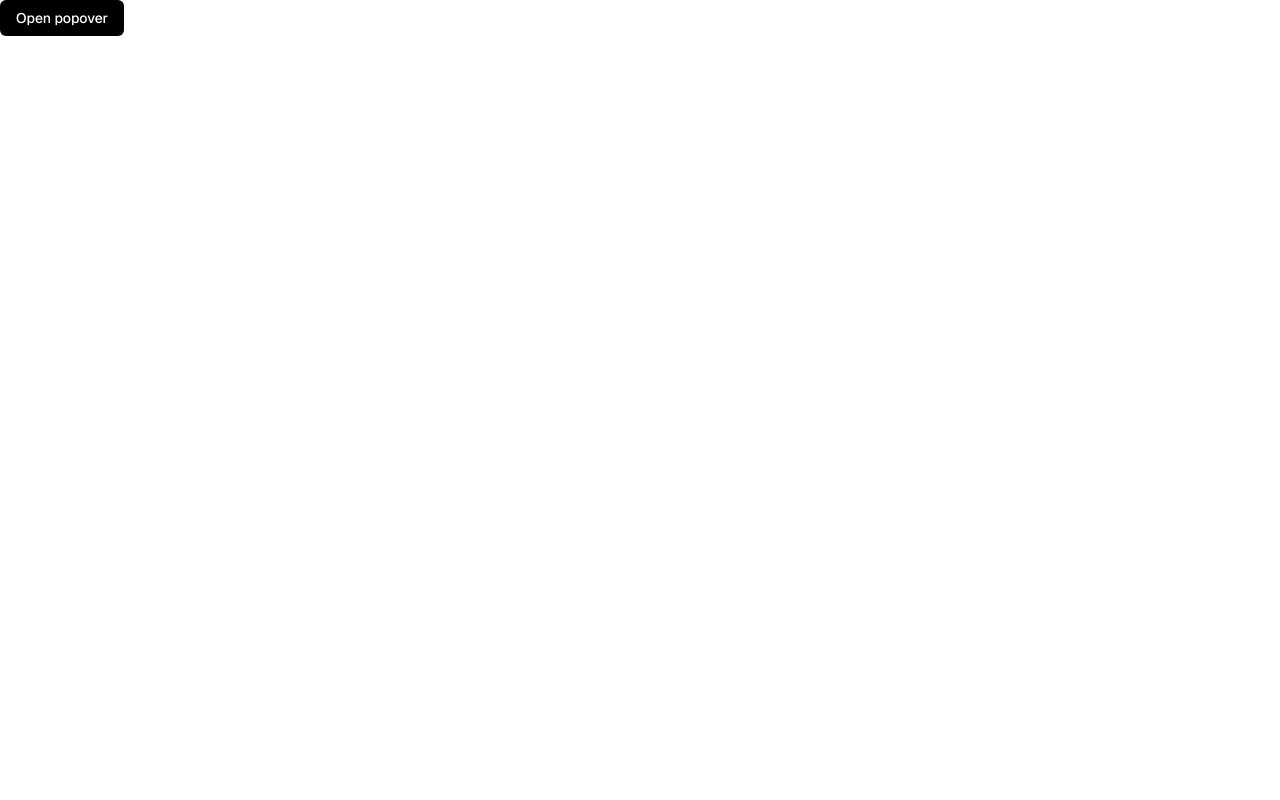
it: Popover › opens content from the trigger
Step 1. Click the button "Open popover" → (62, 18), box [0,0,124,36]
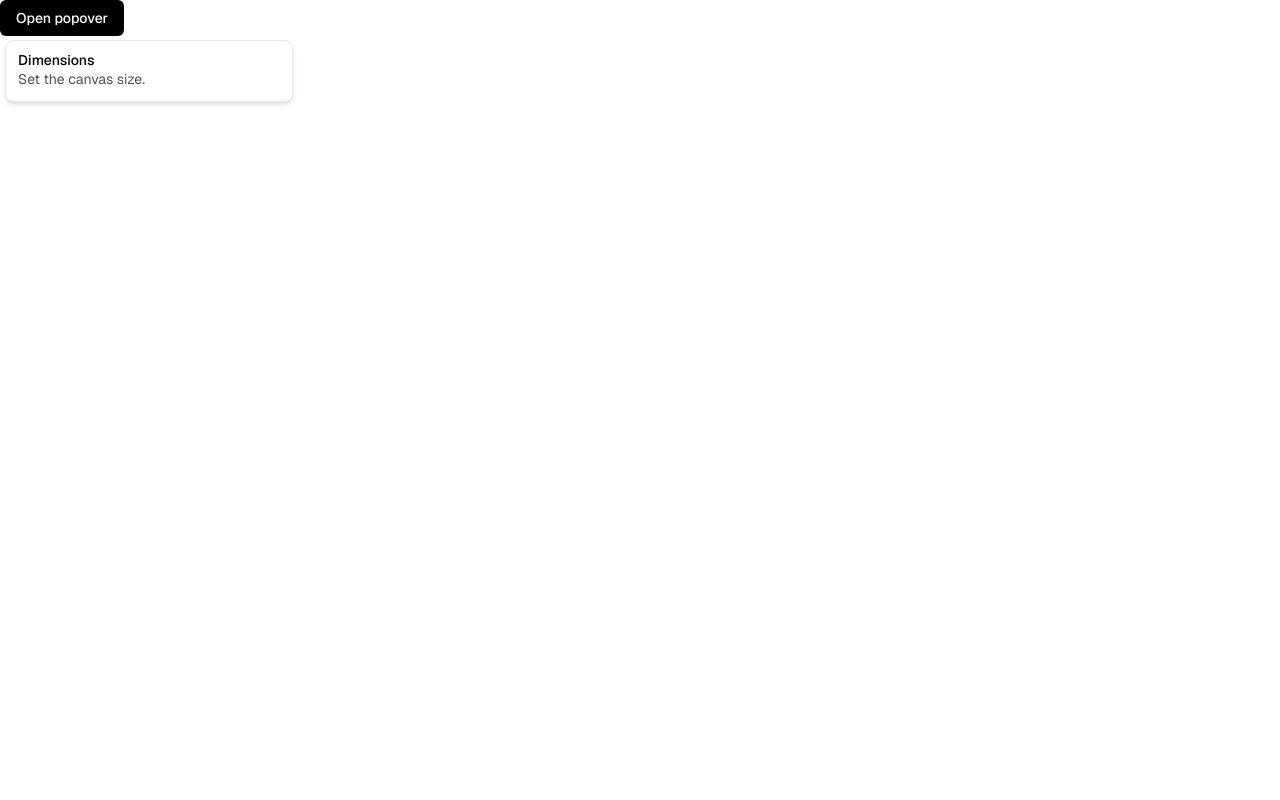
Check: the heading "Dimensions" is shown, box [18,51,94,69]
